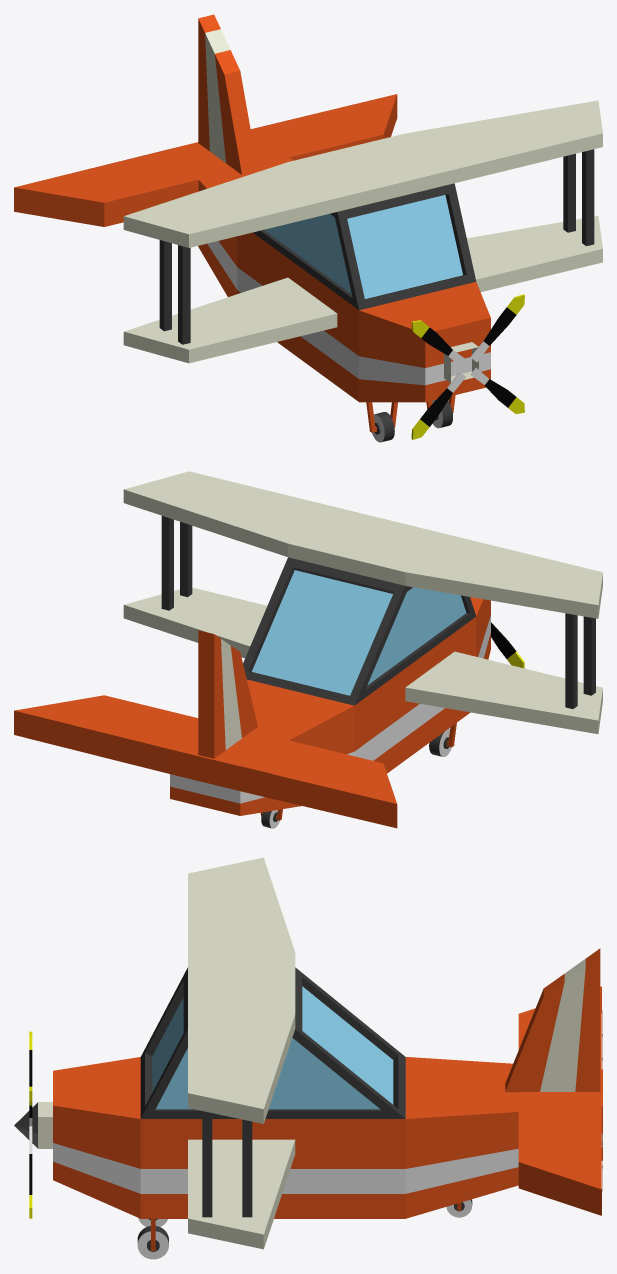
The picture shows the model from 3 angles, top to bottom: view 1: azimuth 30°, elevation 25°; view 2: azimuth 150°, elevation 25°; view 3: azimuth 270°, elevation 25°; orthographic projection. The views are drawn at different scales.
Visible parts, largest first — view 1: Object_4, Object_8, Object_6, Object_5, Object_9, Object_7, Object_19, Object_20, Object_18, Object_14; view 2: Object_4, Object_8, Object_6, Object_5, Object_9, Object_7; view 3: Object_8, Object_4, Object_5, Object_6, Object_7, Object_9, Object_11.
Boxes of the visible parts, box(x1,y1,x2,y2) form: Object_4: box(123, 29, 602, 382); Object_8: box(14, 94, 490, 402); Object_6: box(264, 195, 462, 298); Object_5: box(159, 149, 594, 344); Object_9: box(198, 14, 257, 175); Object_7: box(207, 241, 490, 385); Object_19: box(420, 307, 516, 426); Object_20: box(411, 294, 524, 439); Object_18: box(447, 341, 502, 403); Object_14: box(375, 400, 452, 441); Object_4: box(123, 471, 602, 749); Object_8: box(14, 597, 490, 828); Object_6: box(251, 570, 466, 695); Object_5: box(161, 516, 595, 708); Object_9: box(198, 630, 257, 758); Object_7: box(170, 615, 490, 803); Object_8: box(53, 986, 602, 1218); Object_4: box(38, 857, 585, 1249); Object_5: box(14, 967, 405, 1217); Object_6: box(152, 986, 393, 1109); Object_7: box(53, 1133, 602, 1193); Object_9: box(505, 948, 600, 1092); Object_11: box(137, 1200, 472, 1259).
Bounding box in the file's own units: 3.4 × 1.82 × 3.36.
